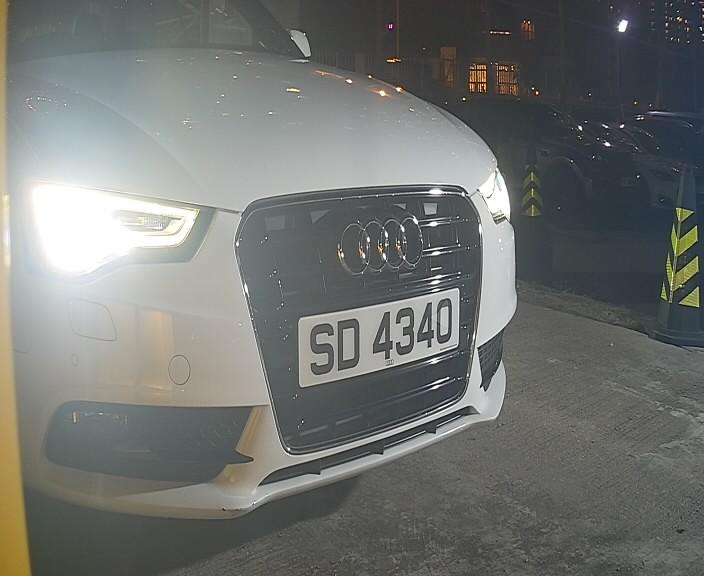privatecar: (16, 11, 510, 515)
